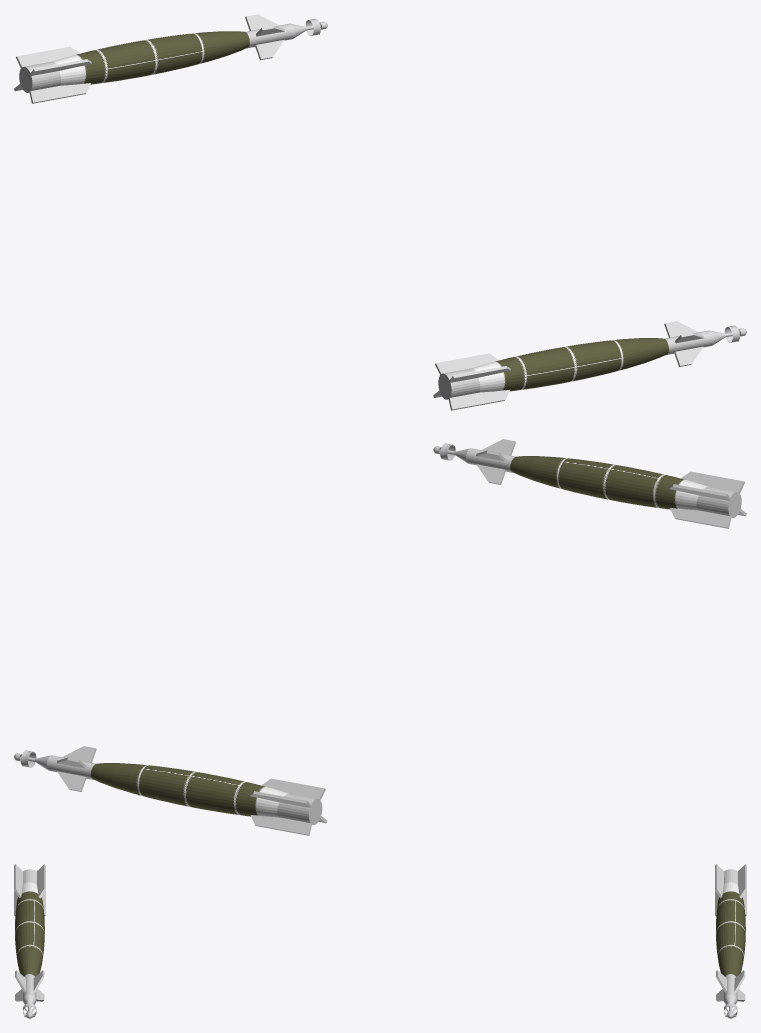
Rendered from f35bgbu1014.glb.
3 renders of one model, top to bottom at view 1: azimuth 30°, elevation 25°; view 2: azimuth 150°, elevation 25°; view 3: azimuth 270°, elevation 25°, orthographic. The views are drawn at different scales.
Parts seen in each view (by area): view 1: 球.002, 球.004; view 2: 球.002, 球.004; view 3: 球.004, 球.002.
Part boxes in pixels (x1,y1,x2,y2): 球.002: (14, 14, 327, 103); 球.004: (433, 321, 746, 410); 球.002: (14, 746, 327, 835); 球.004: (433, 439, 746, 528); 球.004: (14, 864, 45, 1018); 球.002: (715, 864, 746, 1018).
Size of the model in its own units: 4.25 by 0.6398 by 10.61.
Materials: 1 (1 with a texture image).
